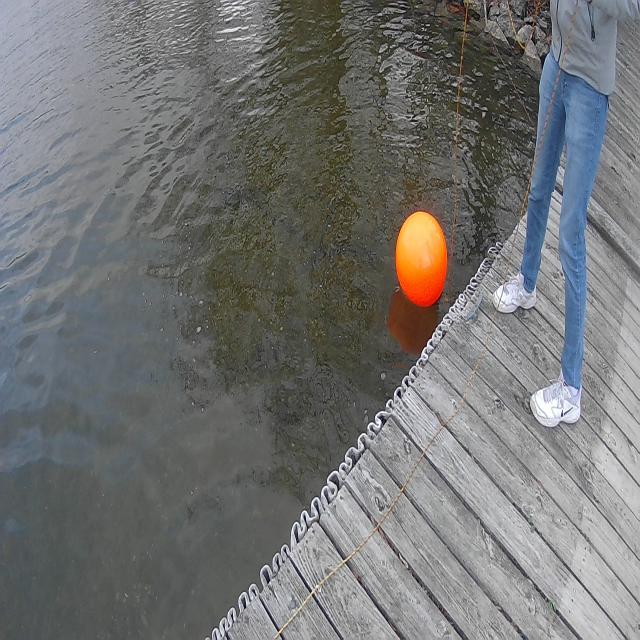Buoy: (392, 202, 452, 313)
